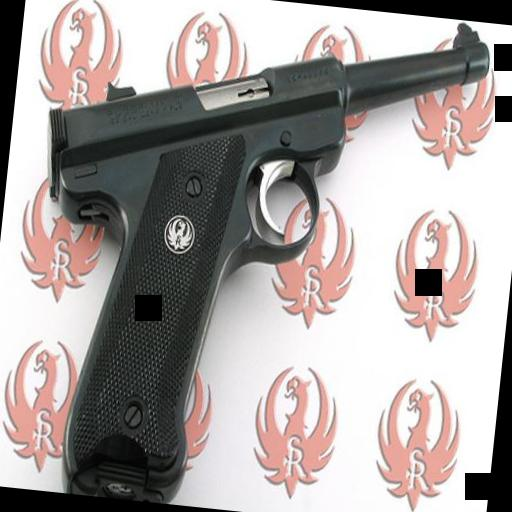Handgun: (7, 0, 490, 512)
